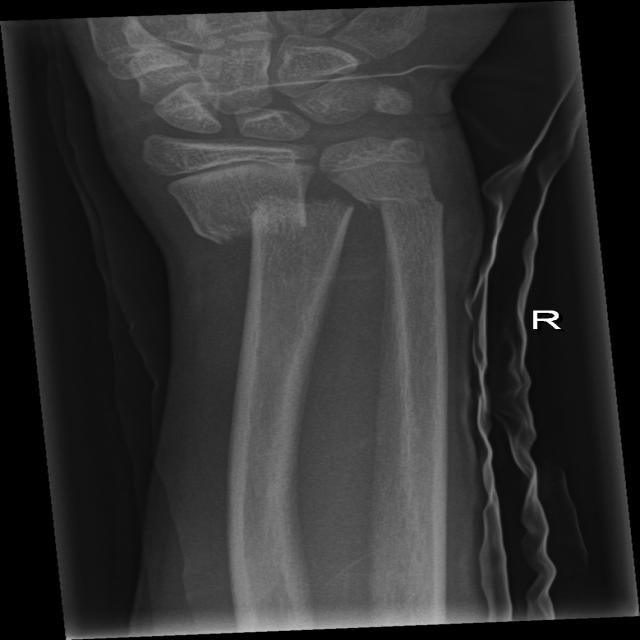radius fracture: (157, 186, 335, 294)
ulna fracture: (371, 172, 453, 268)
